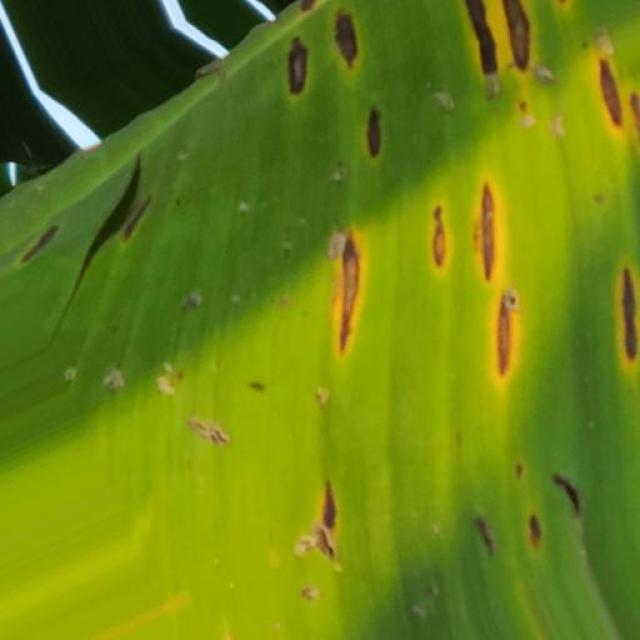Early_rust: (170, 0, 640, 616)
